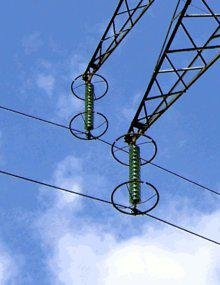isolator: (127, 145, 141, 201), (84, 81, 95, 131)
